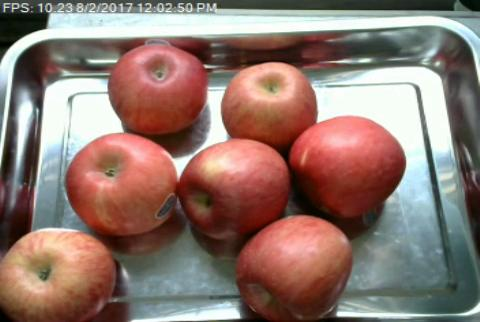apple: (236, 217, 352, 320), (290, 115, 407, 217), (178, 140, 289, 241), (65, 135, 177, 235), (0, 228, 116, 320), (108, 44, 209, 134), (222, 63, 316, 140)
